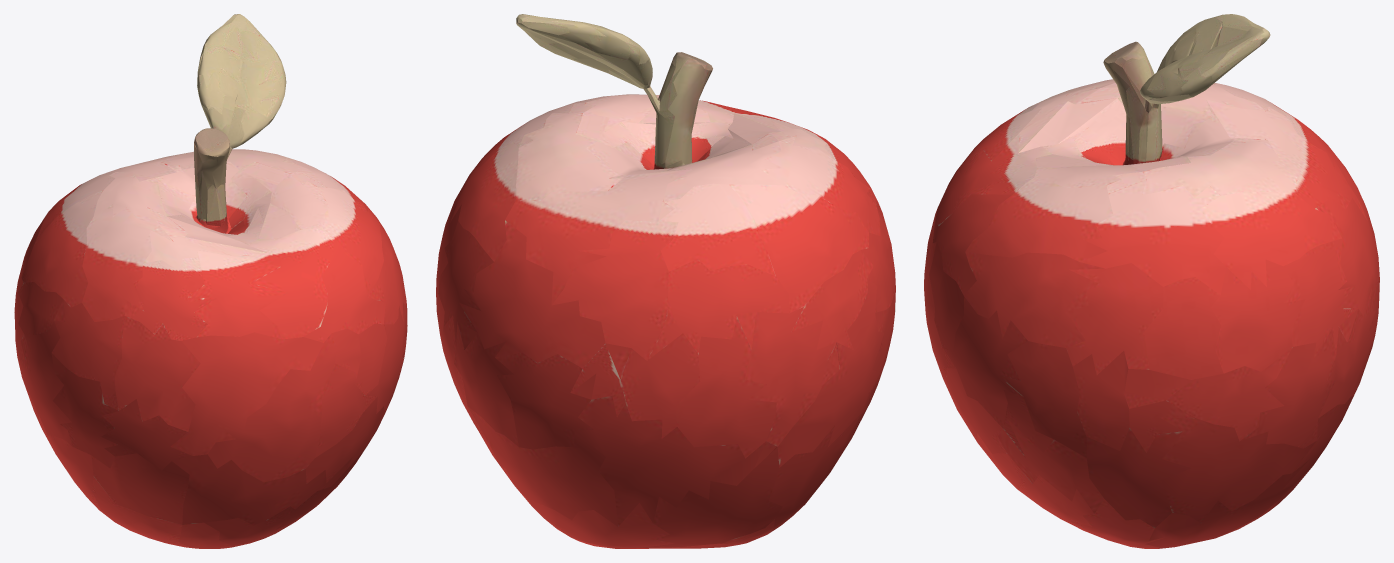
File: apple.a76f3b59.glb
3 views of the same model, side by side, from view 1: azimuth 30°, elevation 25°; view 2: azimuth 150°, elevation 25°; view 3: azimuth 270°, elevation 25° (orthographic). The views are drawn at different scales.
Visible parts, largest first — view 1: output_unwrapped; view 2: output_unwrapped; view 3: output_unwrapped.
Part boxes in pixels (x1,y1,x2,y2): output_unwrapped: (14, 14, 407, 548); output_unwrapped: (436, 14, 895, 548); output_unwrapped: (924, 14, 1379, 548).
Size of the model in its own units: 1.51 by 1.9 by 1.51.
1 material, 1 textured.
